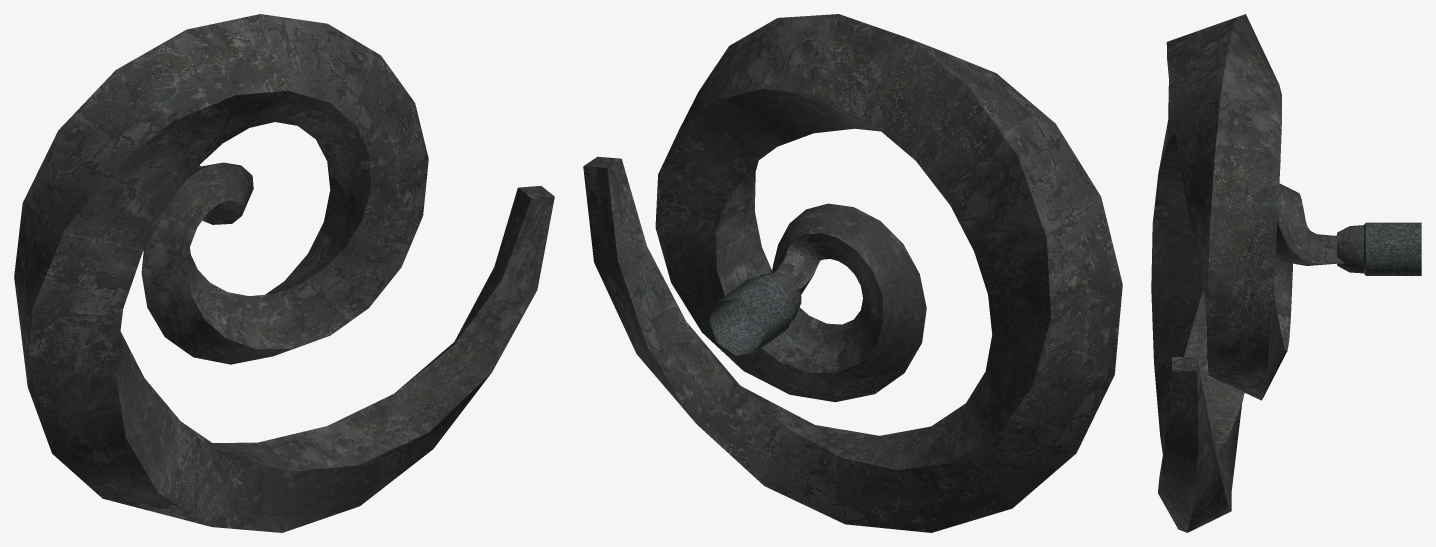
File: p6_la_sculpture_fountain_01_LOD2.obj
The picture shows the model from 3 angles, left to right: view 1: azimuth 30°, elevation 25°; view 2: azimuth 150°, elevation 25°; view 3: azimuth 270°, elevation 25°; orthographic projection. The views are drawn at different scales.
Visible parts, largest first — view 1: metal_wall_brushed02; view 2: metal_wall_brushed02, stone_floor_granite_tile01_blue; view 3: metal_wall_brushed02, stone_floor_granite_tile01_blue.
Boxes of the visible parts, x1,y1,x2,y2 form: metal_wall_brushed02: (14, 14, 554, 532); metal_wall_brushed02: (583, 14, 1122, 532); stone_floor_granite_tile01_blue: (709, 275, 795, 355); metal_wall_brushed02: (1151, 14, 1363, 532); stone_floor_granite_tile01_blue: (1363, 222, 1421, 275).
Size of the model in its own units: 485 by 444 by 240.
